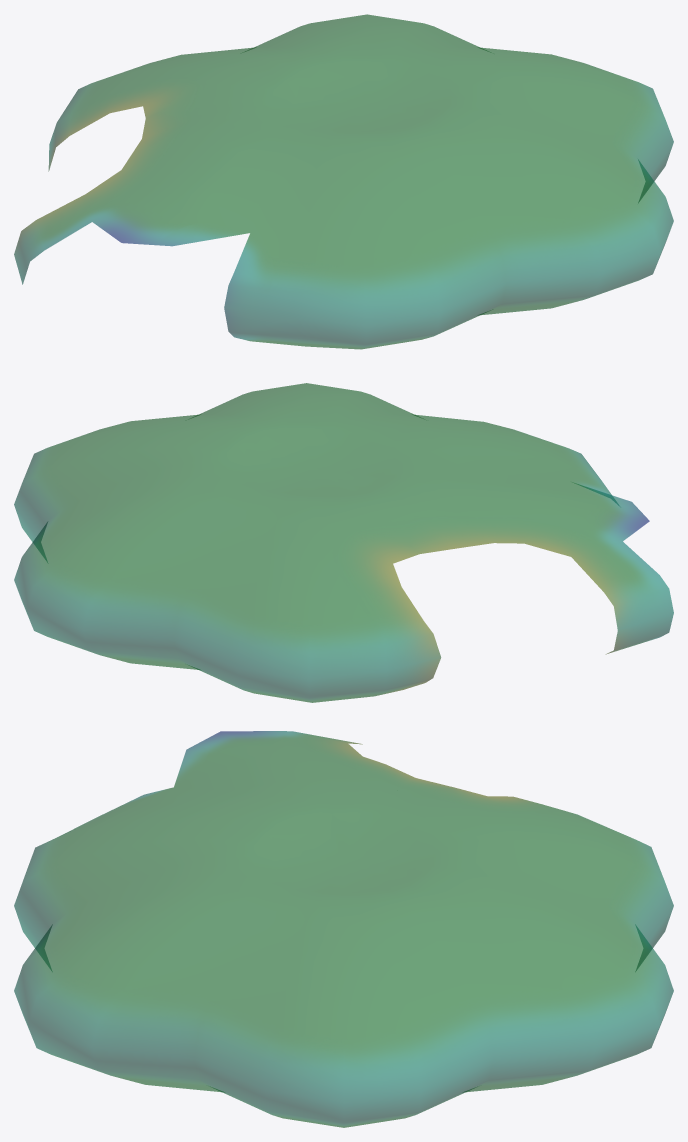
Rendered from Green.gltf.
3 renders of one model, top to bottom at view 1: azimuth 30°, elevation 25°; view 2: azimuth 150°, elevation 25°; view 3: azimuth 270°, elevation 25°, orthographic. The views are drawn at different scales.
Visible parts, largest first — view 1: Green; view 2: Green; view 3: Green.
Boxes of the visible parts, bbox=[...] form: Green: bbox=[14, 14, 673, 349]; Green: bbox=[14, 383, 673, 702]; Green: bbox=[14, 731, 673, 1127].
Size of the model in its own units: 1.88 by 0.463 by 1.52.
1 material, 1 textured.
